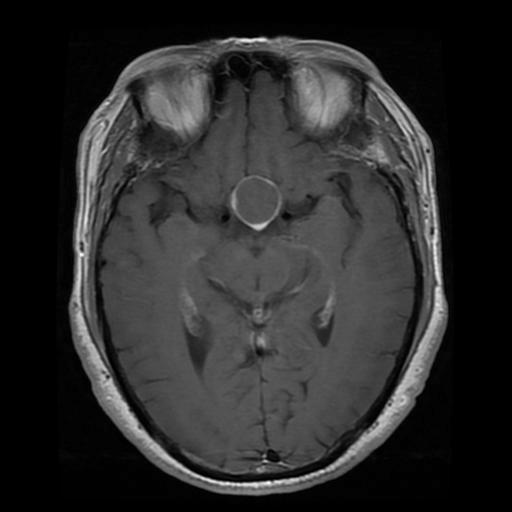Tumour-Pituitary: (228, 175, 284, 234)
